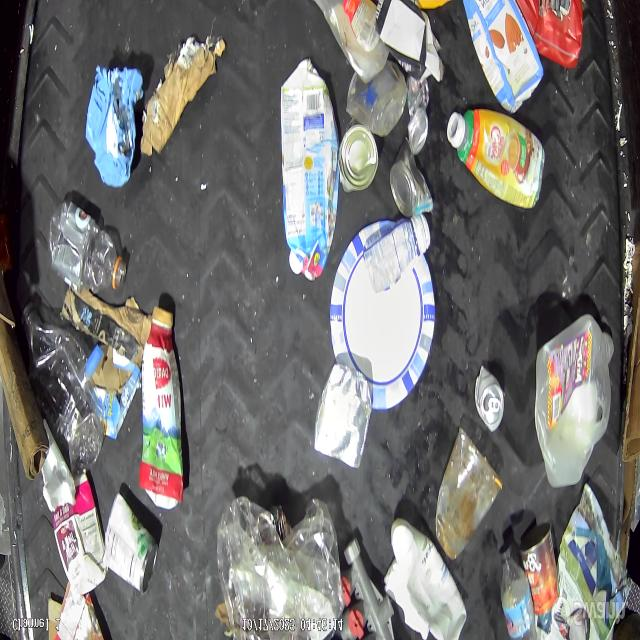can: (313, 364, 372, 472), (101, 492, 160, 593), (520, 523, 560, 616), (390, 147, 435, 219), (342, 124, 380, 195), (474, 363, 506, 435), (407, 72, 431, 153)
milk_jug: (532, 314, 612, 490), (387, 518, 468, 638)
non_white_jug: (280, 57, 340, 282), (463, 0, 544, 115), (516, 0, 583, 74)
plastic_bottle: (23, 308, 103, 474), (51, 200, 128, 294), (499, 547, 535, 640)
